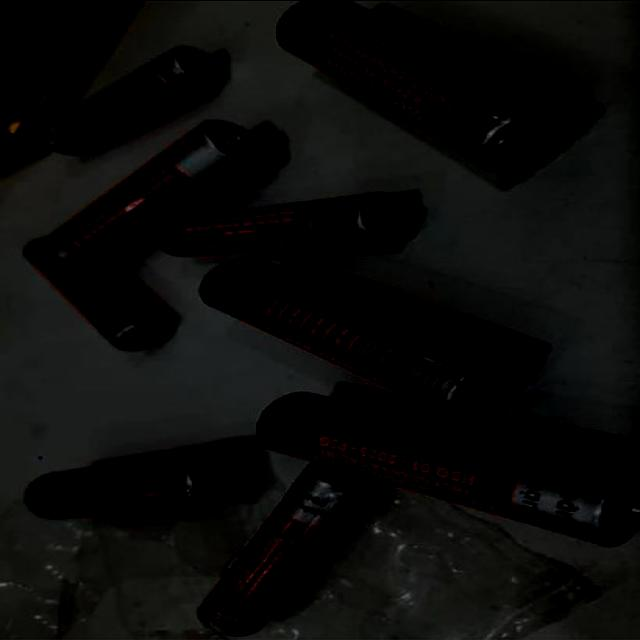AA: (253, 386, 638, 550), (195, 253, 533, 421), (270, 1, 586, 173), (44, 116, 283, 269), (20, 440, 266, 519)
AAA: (188, 456, 389, 638), (33, 41, 233, 159), (148, 186, 418, 256)
